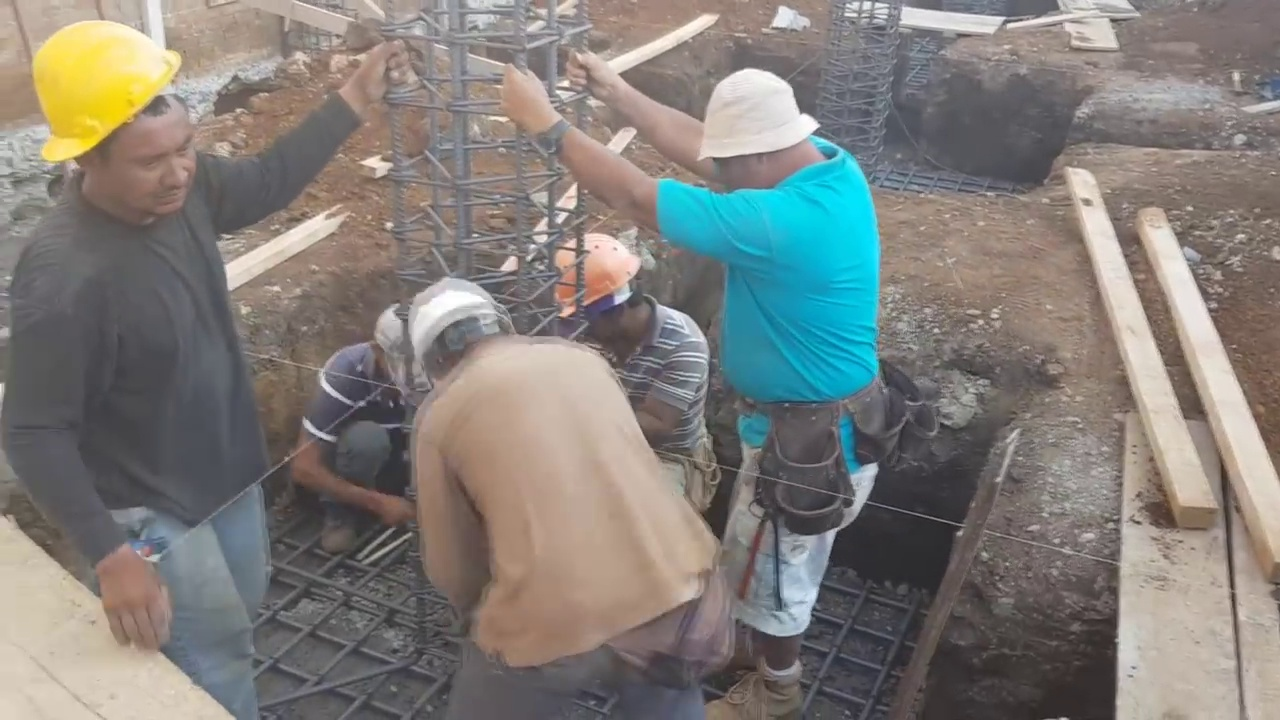helmet: (27, 17, 193, 162), (388, 279, 499, 388), (553, 229, 633, 321)
helmet-off: (693, 68, 829, 198), (372, 305, 413, 385)
helmet-on: (28, 14, 188, 225), (393, 274, 519, 399), (553, 224, 666, 359)
person: (5, 3, 409, 720), (508, 46, 896, 719), (394, 277, 730, 720), (553, 225, 722, 511), (293, 303, 436, 556)
